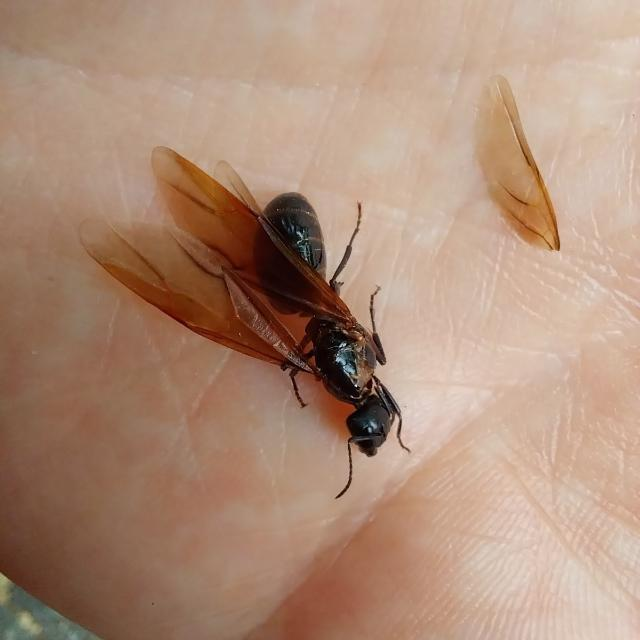Camponotus: (155, 150, 449, 502)
